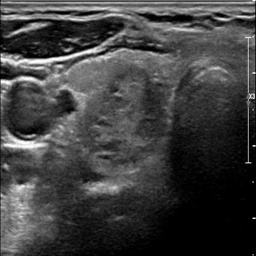mass: (90, 70, 162, 163)
